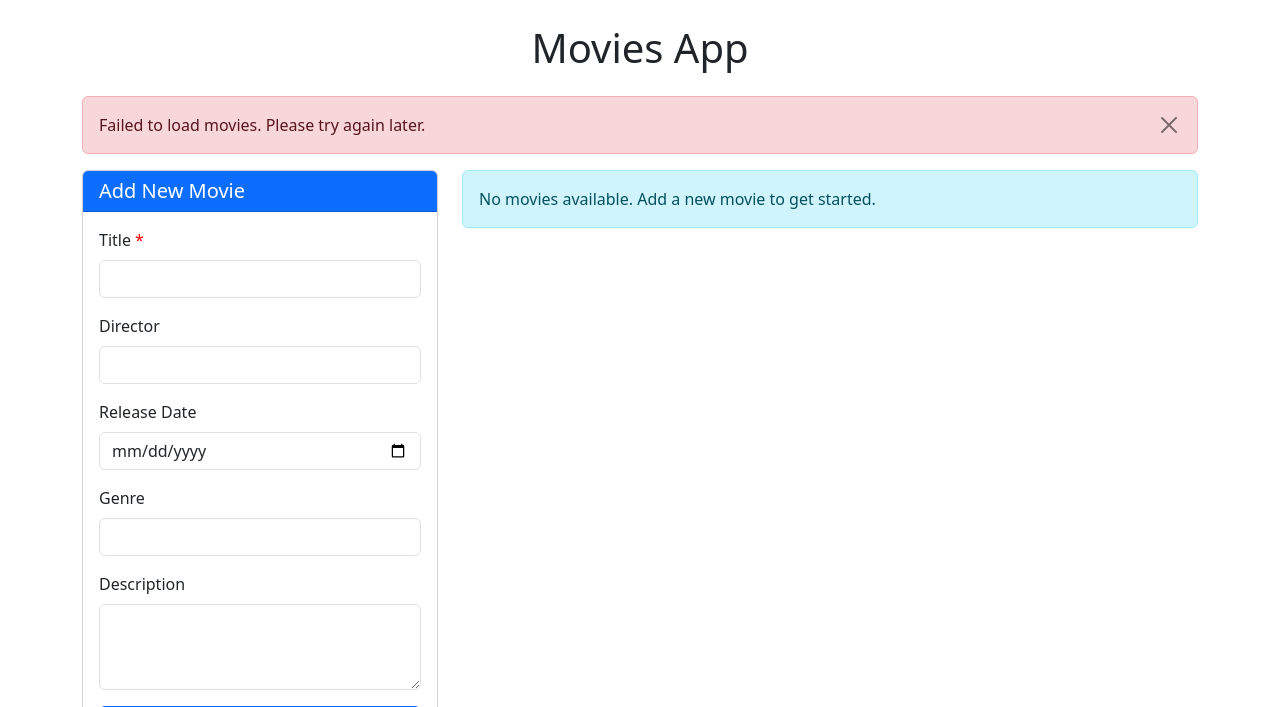
Test: App Component › dismisses error message when close button is clicked
Expected: the text "Failed to load movies. Please try again later." is shown, top-left (82, 96), bottom-right (1198, 154)
# Click the close button on the error alert
Click the button named "Close": coordinates (1169, 125) top-left (1157, 113), bottom-right (1181, 137)
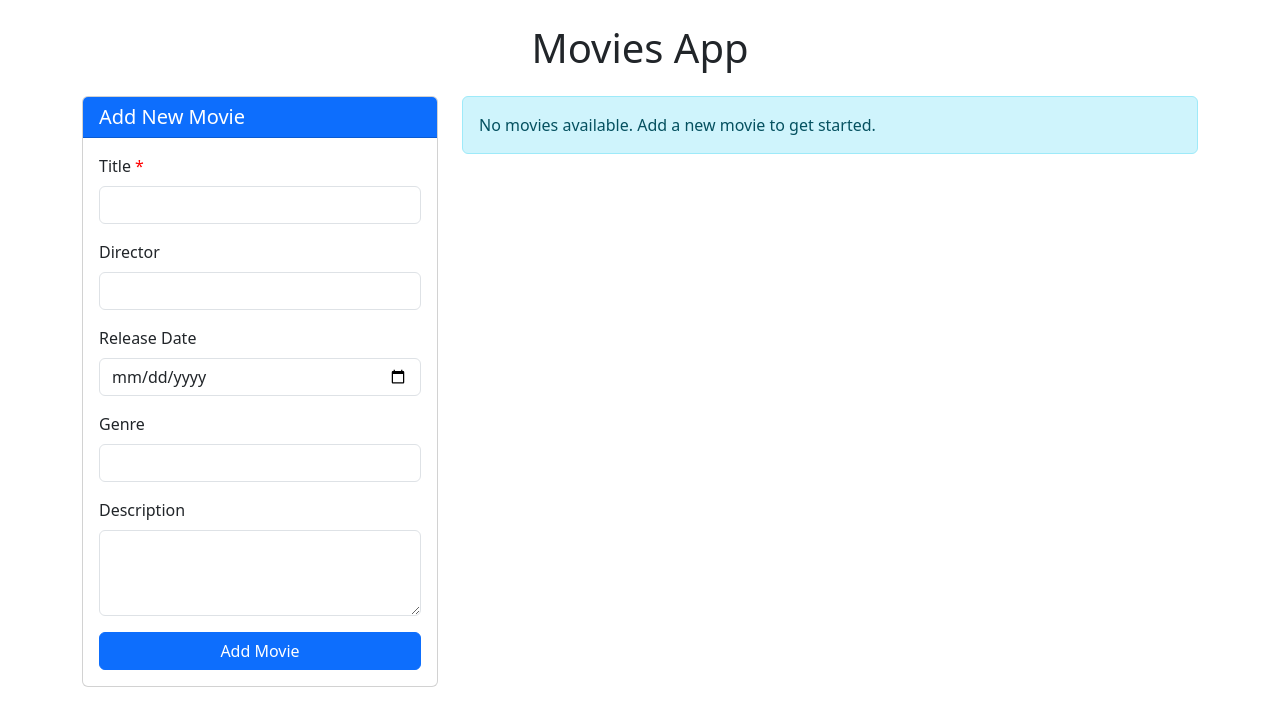
Expected: the text "Failed to load movies. Please try again later." is gone
